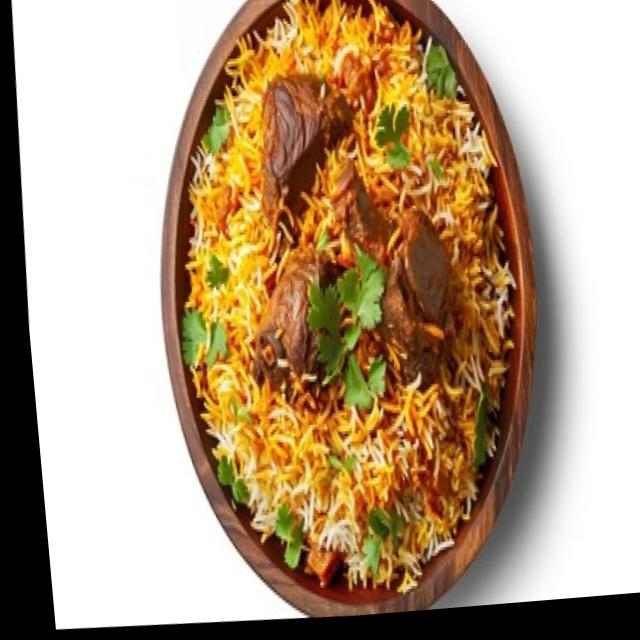BIRIYANI: (174, 0, 526, 597)
